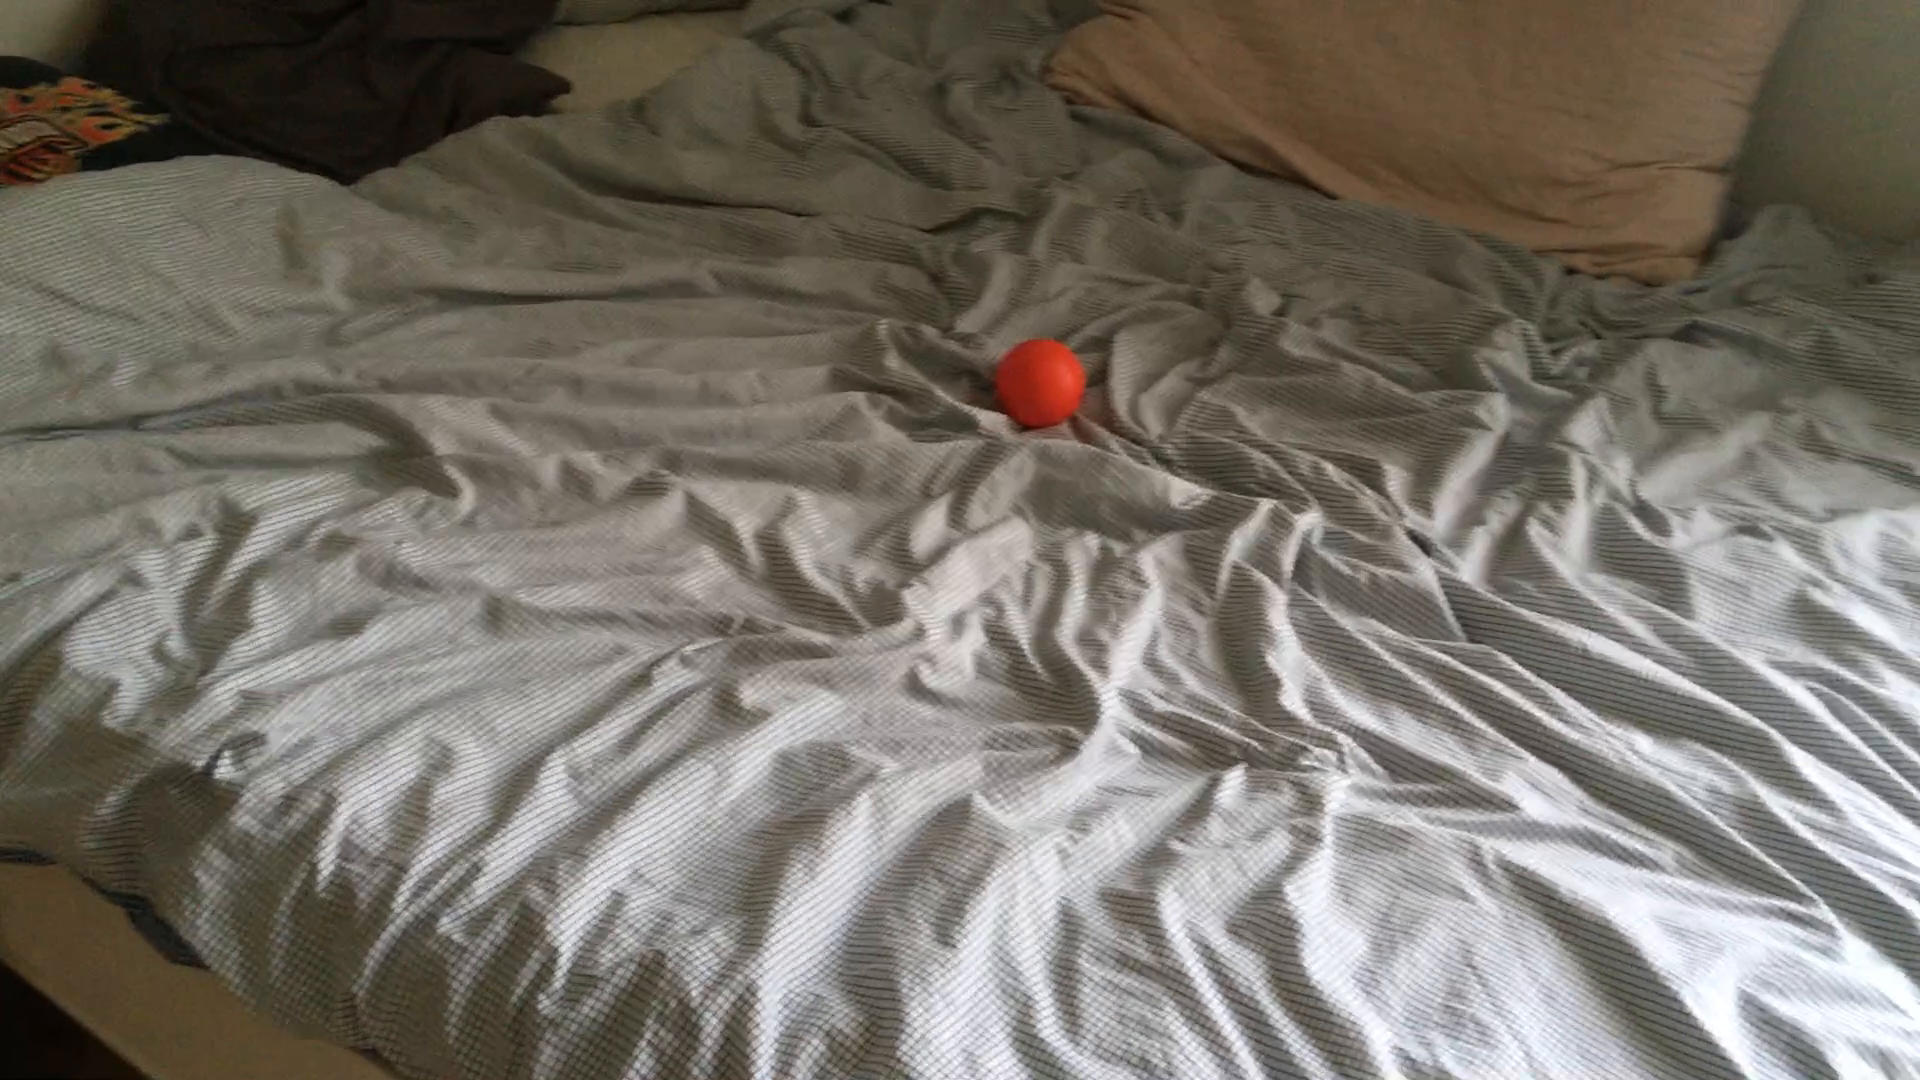Ball: (996, 336, 1081, 430)
